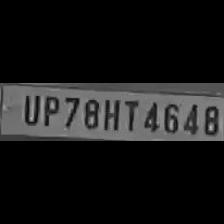4: (140, 99, 160, 133), (181, 101, 199, 135)
6: (160, 100, 180, 134)
7: (59, 94, 79, 130)
8: (80, 96, 100, 130), (200, 102, 220, 136)
H: (100, 96, 120, 132)
P: (38, 94, 60, 128)
T: (120, 97, 138, 132)
U: (19, 93, 39, 126)
